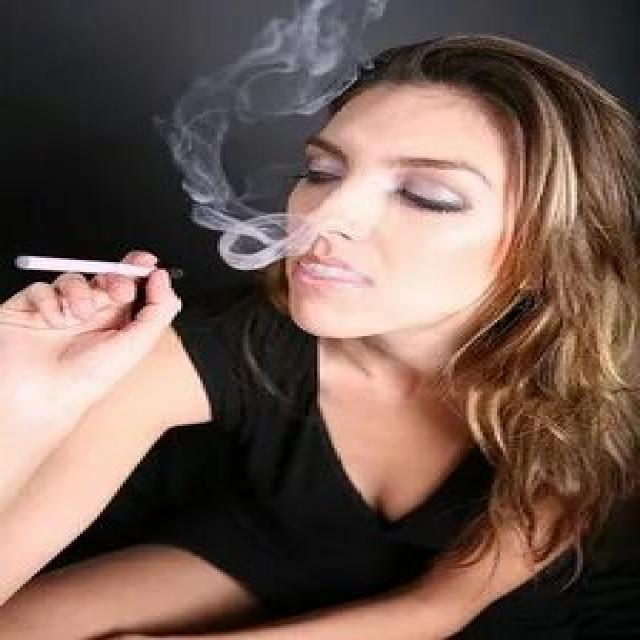smoke: (6, 252, 191, 282)
